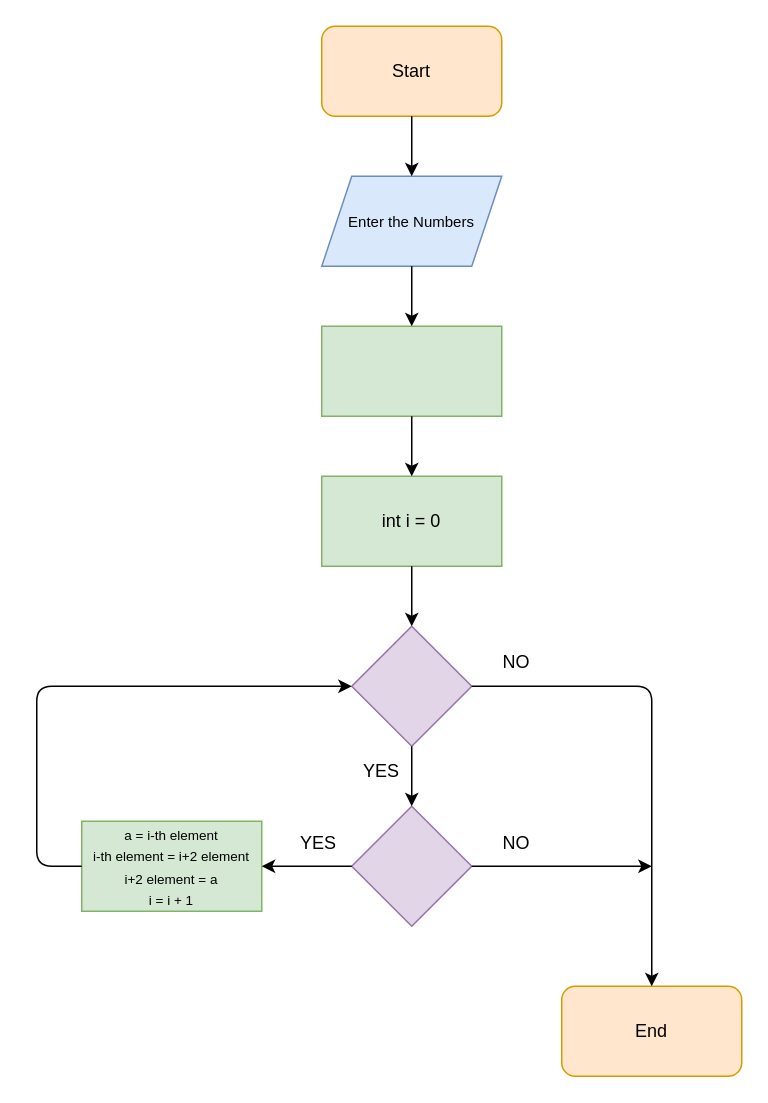
Some shapes in this 768 by 1103 pixel diagram are drawn without their labels. The centre of each missing label's shape, as x and y in pixels:
"(i+2)< ArrayList.zise()?" goes at [411,865].
"Create an ArrayLIst and fill it with the entered Numbers" goes at [411,370].
"i < ArrayList.size()?" goes at [411,685].
